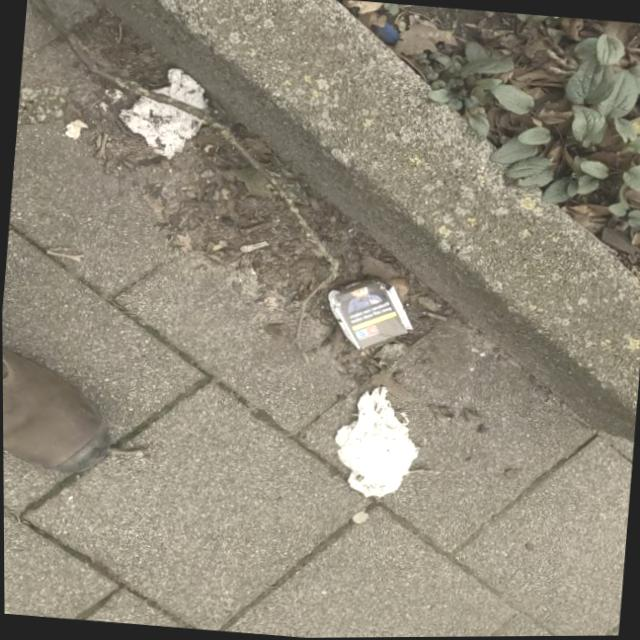Paper: (327, 381, 427, 502), (113, 61, 214, 162), (322, 271, 419, 356), (16, 80, 72, 130)
Plastic: (63, 116, 89, 141)
